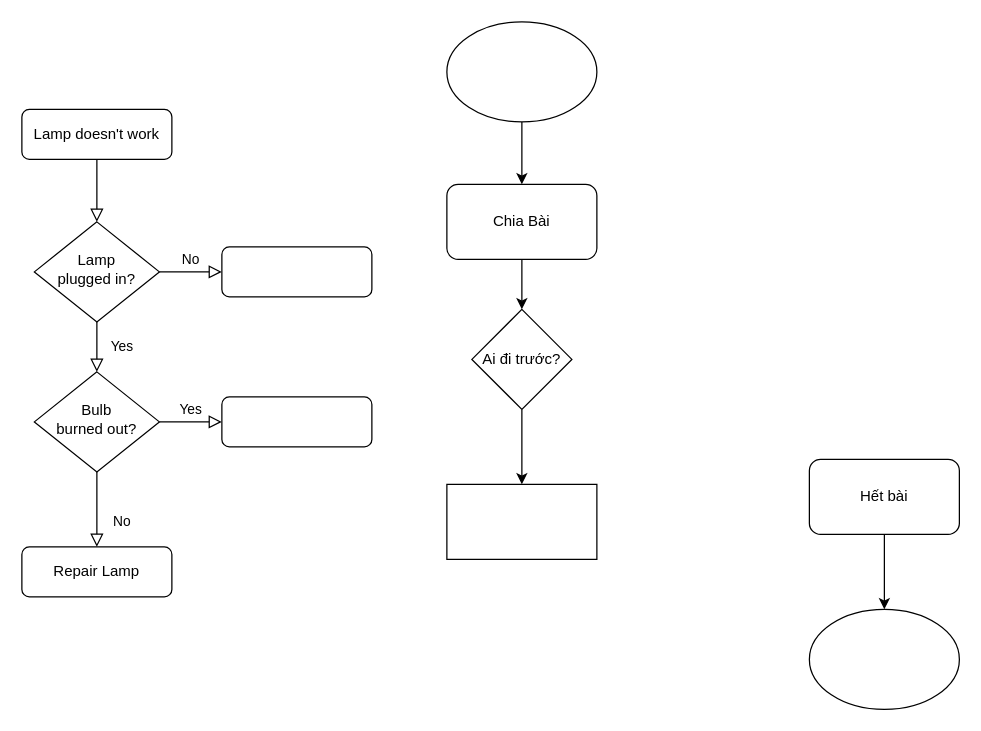
Image size: 981x731. Some labels were removed from this diagram. Here are the shapes that lost their labels. From the top down, the box of each, then its label:
(221, 246, 372, 297): Plug in lamp
(221, 396, 372, 447): Replace Bulb
(446, 483, 597, 559): Tìm người đi trước
(808, 608, 959, 709): Thắng
